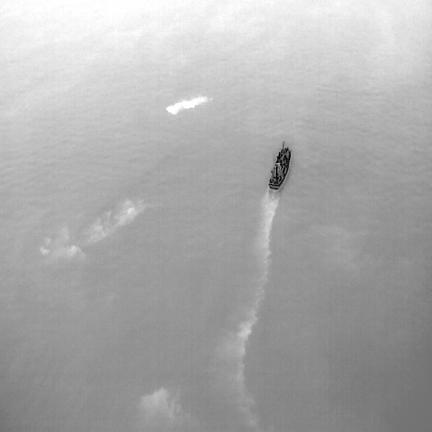flukeprints: (86, 201, 144, 243), (40, 227, 84, 260), (166, 95, 212, 114)
